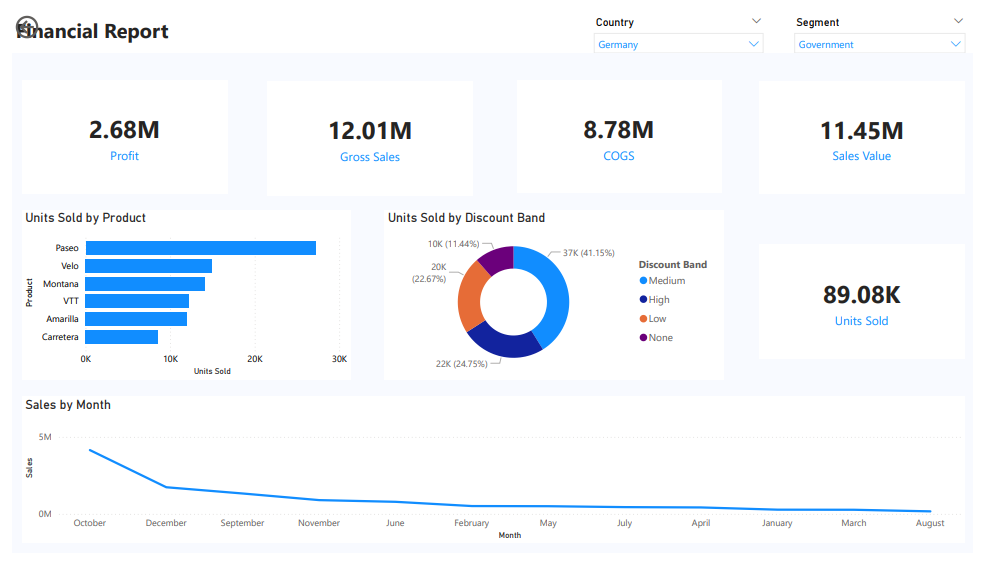

The page's visual inventory and layout, read from the dashboard file:
{"tool":"powerbi","page":{"name":"Page 1","canvas":[1280,720],"ordinal":0},"visuals":[{"type":"textbox","box":[0,0,1280,53.8],"z":0},{"type":"card","fields":{"Values":["Sum(financials.Profit)"]},"box":[13.4,90.7,273.8,151.2],"z":1000},{"type":"actionButton","box":[0,0,100,40],"z":2000},{"type":"card","fields":{"Values":["Sum(financials.Gross Sales)"]},"box":[340.2,92.1,273.5,151.7],"z":3000},{"type":"card","fields":{"Values":["Sum(financials.COGS)"]},"box":[671.8,90.7,273.5,150.2],"z":4000},{"type":"card","fields":{"Values":["Sum(financials.Sales)"]},"box":[995,92.1,273.5,150.2],"z":5000},{"type":"barChart","fields":{"Category":["financials.Product"],"Y":["Sum(financials.Units Sold)"]},"box":[12.8,263.6,438,225.4],"z":6000},{"type":"slicer","fields":{"Values":["financials.Country"]},"box":[765.4,0,245.2,53.9],"z":7000},{"type":"donutChart","fields":{"Category":["financials.Discount Band"],"Y":["Sum(financials.Units Sold)"]},"box":[496.1,263.6,452.1,225.4],"z":8000},{"type":"slicer","fields":{"Values":["financials.Segment"]},"box":[1031.8,0,248,53.9],"z":9000},{"type":"card","fields":{"Values":["Sum(financials.Units Sold)"]},"box":[995,309,273.5,153.1],"z":10000},{"type":"lineChart","fields":{"Category":["financials.Month Name"],"Y":["Sum(financials.Sales)"]},"box":[12.8,511.7,1255.7,195.6],"z":11000}]}

Visuals, with their boxes in screenshot pixels (x1, y1, x2, y2), scaled from the page's 1280x720 canvas onto the 987x568 screenshot:
textbox: bbox=[0, 0, 986, 42]
card - Sum(financials.Profit): bbox=[10, 72, 221, 191]
actionButton: bbox=[0, 0, 77, 32]
card - Sum(financials.Gross Sales): bbox=[262, 73, 473, 192]
card - Sum(financials.COGS): bbox=[518, 72, 729, 190]
card - Sum(financials.Sales): bbox=[767, 73, 978, 191]
barChart - financials.Product x Sum(financials.Units Sold): bbox=[10, 208, 348, 386]
slicer - financials.Country: bbox=[590, 0, 779, 43]
donutChart - financials.Discount Band x Sum(financials.Units Sold): bbox=[383, 208, 731, 386]
slicer - financials.Segment: bbox=[796, 0, 986, 43]
card - Sum(financials.Units Sold): bbox=[767, 244, 978, 365]
lineChart - financials.Month Name x Sum(financials.Sales): bbox=[10, 404, 978, 558]
